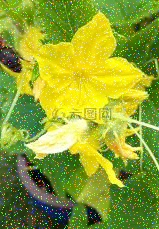cucumber_plant: (25, 8, 153, 214)
